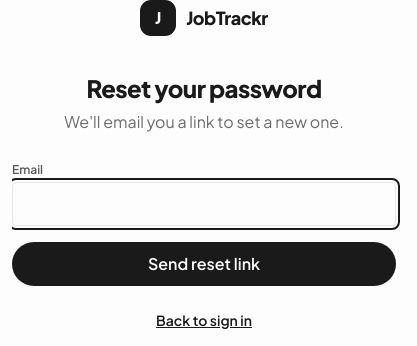
it: ForgotPasswordForm › gives the same answer whether or not the account exists
Step 1. Type "ghost@nowhere.com" into the field labelled "Email" → point(204, 204), box top-left (12, 182), bottom-right (396, 226)
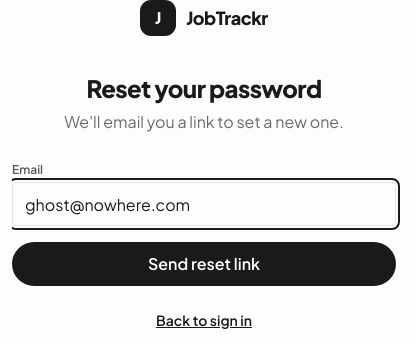
Step 2. Click the button "Send reset link" → point(204, 264), box top-left (12, 242), bottom-right (396, 286)
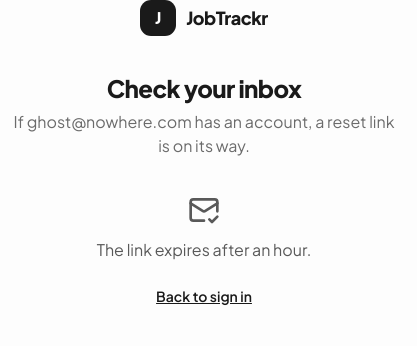
expect the heading "Check your inbox" is shown: met, box top-left (107, 73), bottom-right (301, 103)
